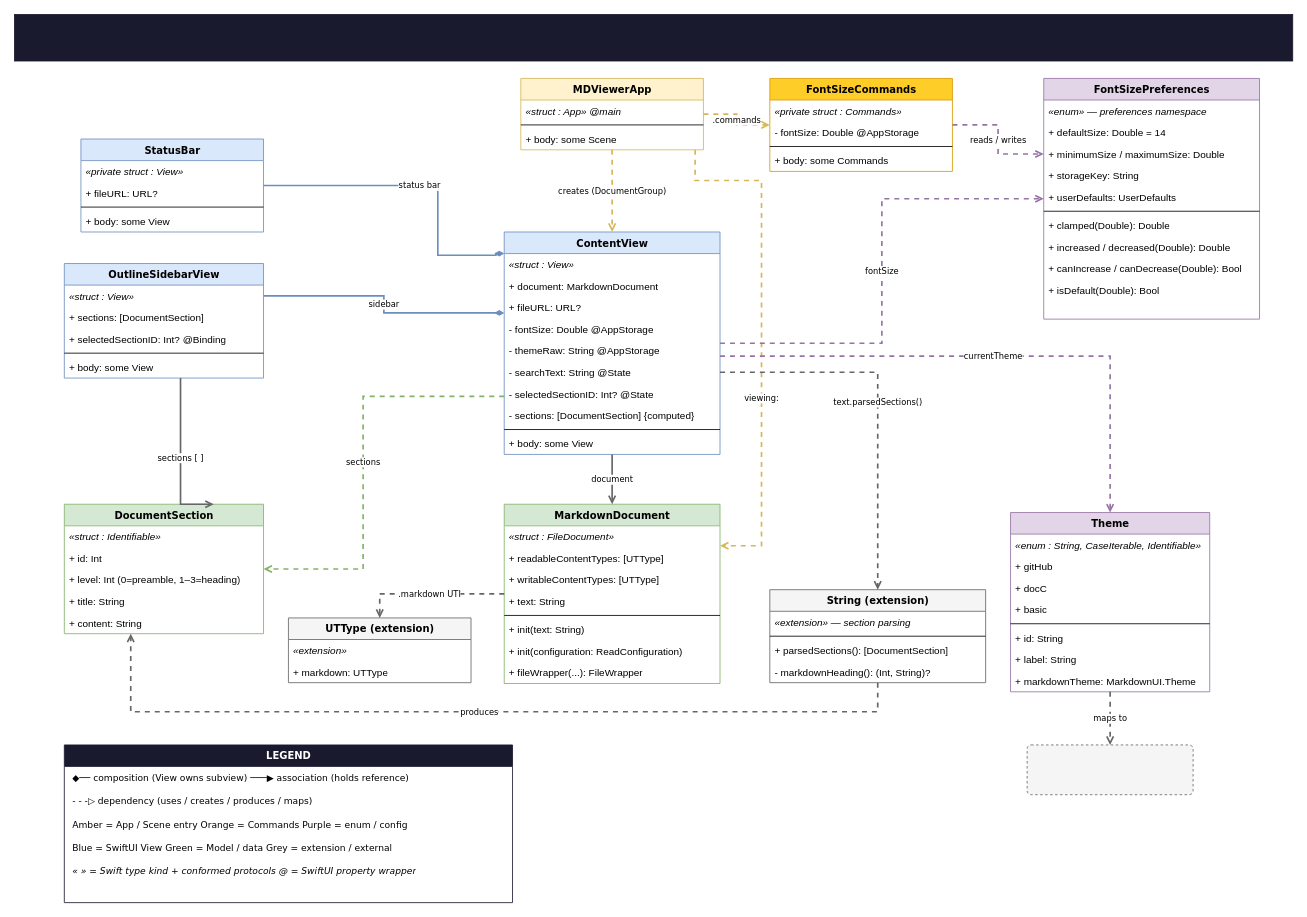
Image size: 1307x917. Some labels were removed from this diagram. Here are the shapes that lost their labels. From the top down, the centre of each, then its label:
At pixel 653 37: "MDViewer — Class Diagram Native macOS Markdown Viewer (SwiftUI)".
At pixel 1109 769: "«external» MarkdownUI.Theme".
